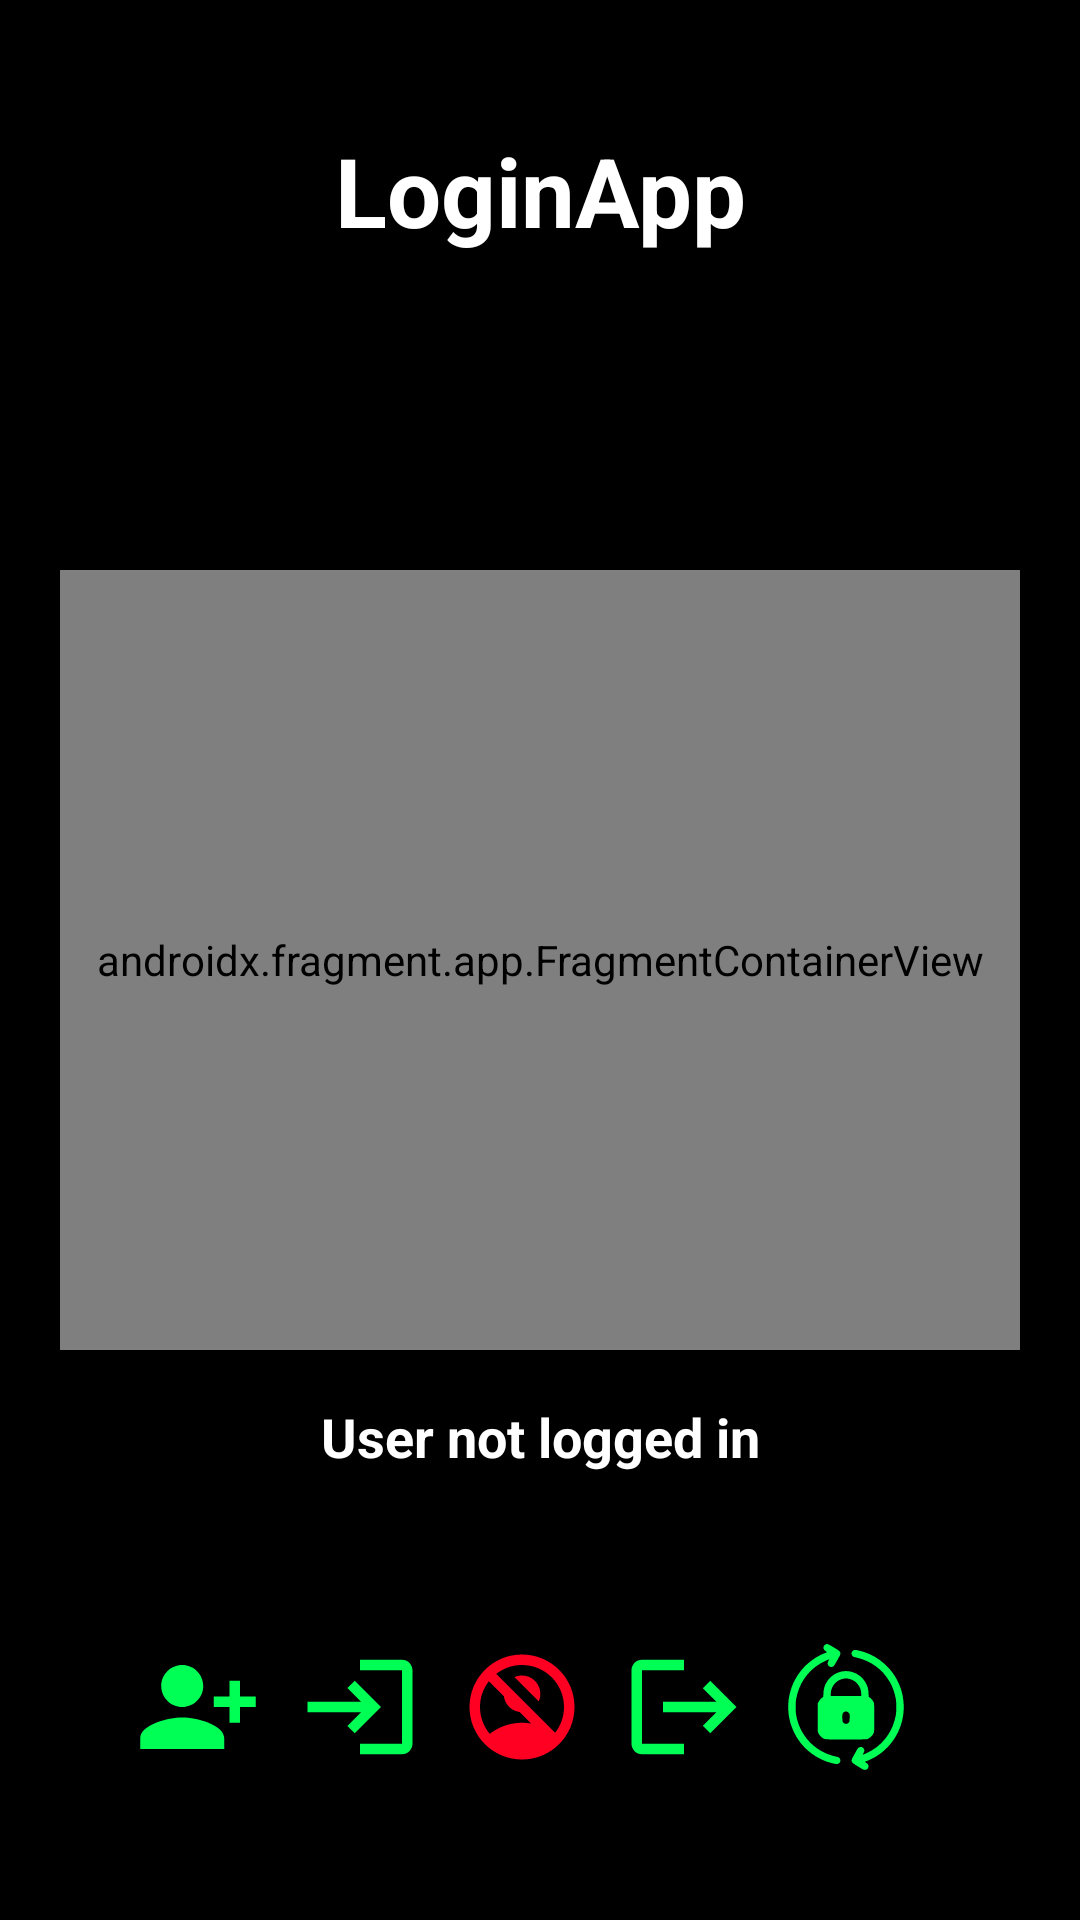

Icon bounding boxes for this 1080px x 1920px phone screenshot, format (x1, y1, x2, y2):
login: (307, 1659, 413, 1755)
registration: (140, 1665, 256, 1749)
reset password: (788, 1644, 904, 1770)
